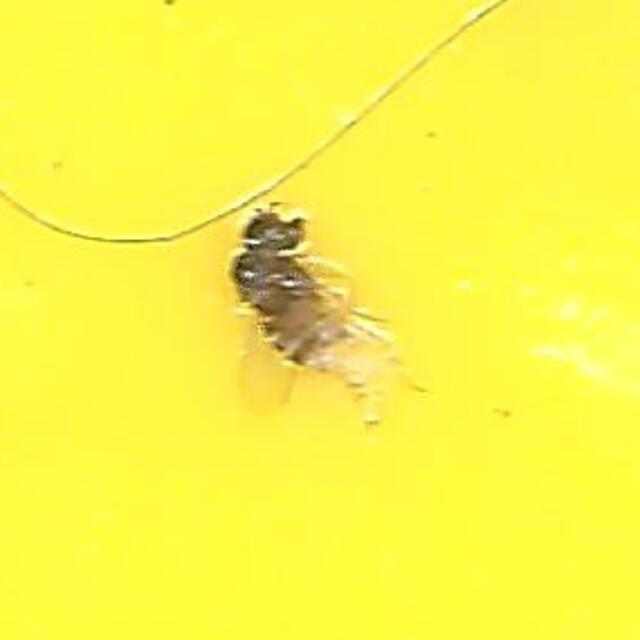Brachycera: (225, 208, 415, 432)
